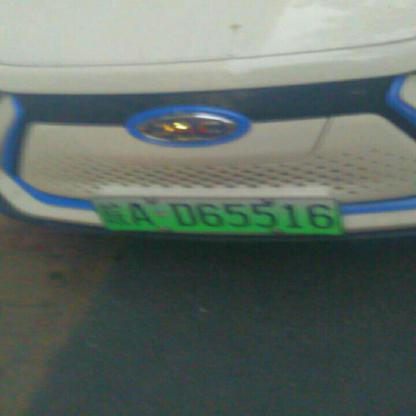lp: (92, 196, 340, 236)
